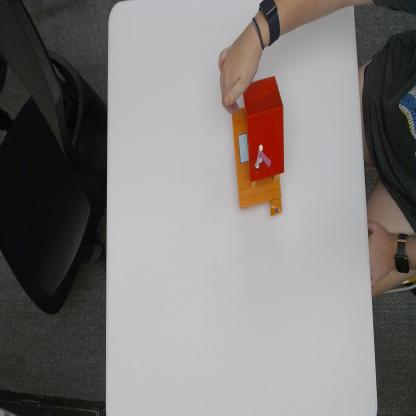Hand: (218, 14, 267, 110)
House: (232, 75, 285, 216)
